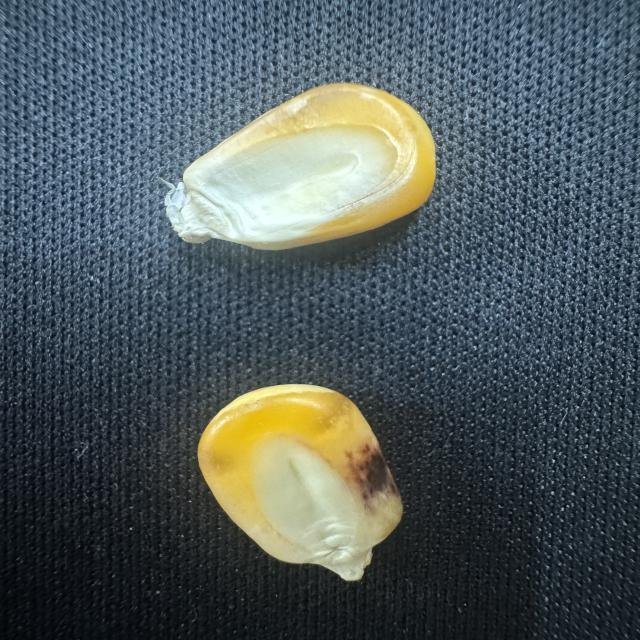Bad-Seed: (189, 373, 413, 584)
Good-Seed: (161, 80, 448, 252)
